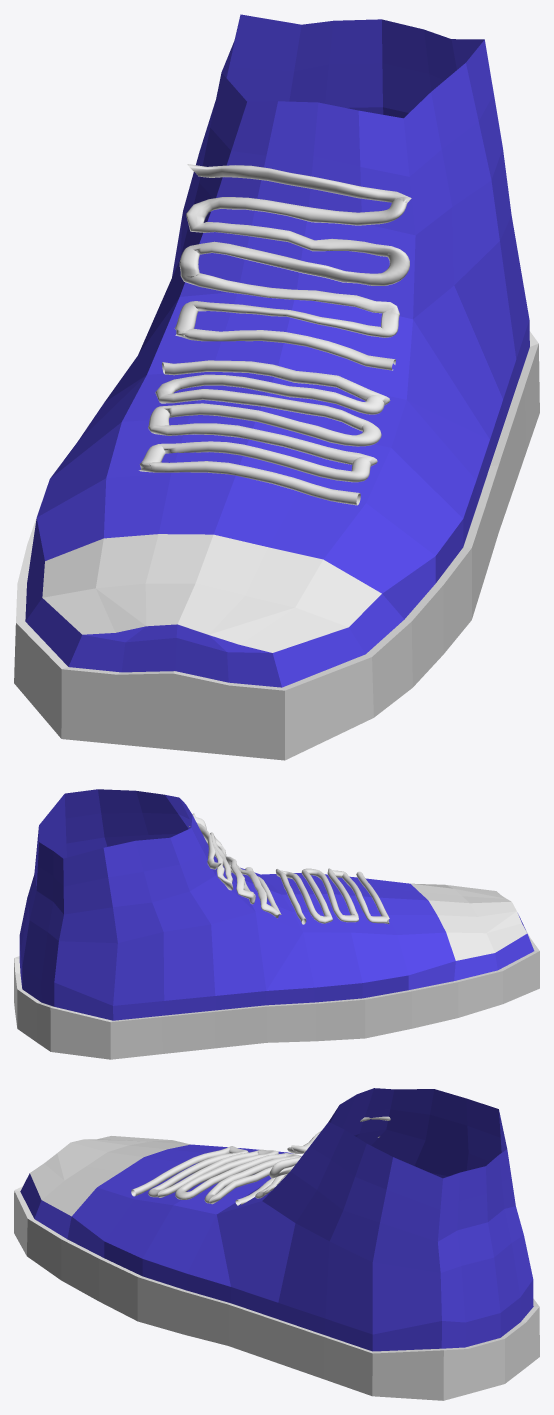
The model's file is uploads_files_5252766_blue+shoe.fbx.
The picture shows the model from 3 angles, top to bottom: view 1: azimuth 30°, elevation 25°; view 2: azimuth 150°, elevation 25°; view 3: azimuth 270°, elevation 25°; orthographic projection. The views are drawn at different scales.
Visible parts, largest first — view 1: Cube.006; view 2: Cube.006; view 3: Cube.006.
Part boxes in pixels (x1,y1,x2,y2): Cube.006: [14, 14, 539, 760]; Cube.006: [14, 789, 539, 1059]; Cube.006: [14, 1088, 539, 1400].
Size of the model in its own units: 274 by 141 by 287.
